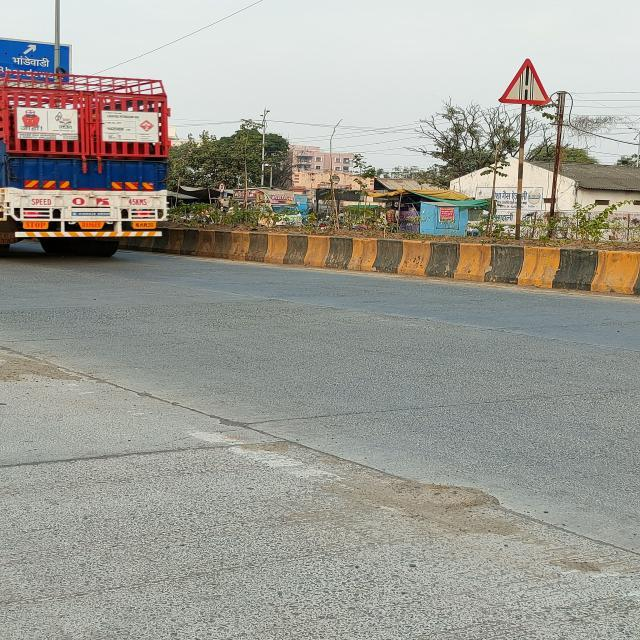gap in median: (496, 56, 555, 108)
